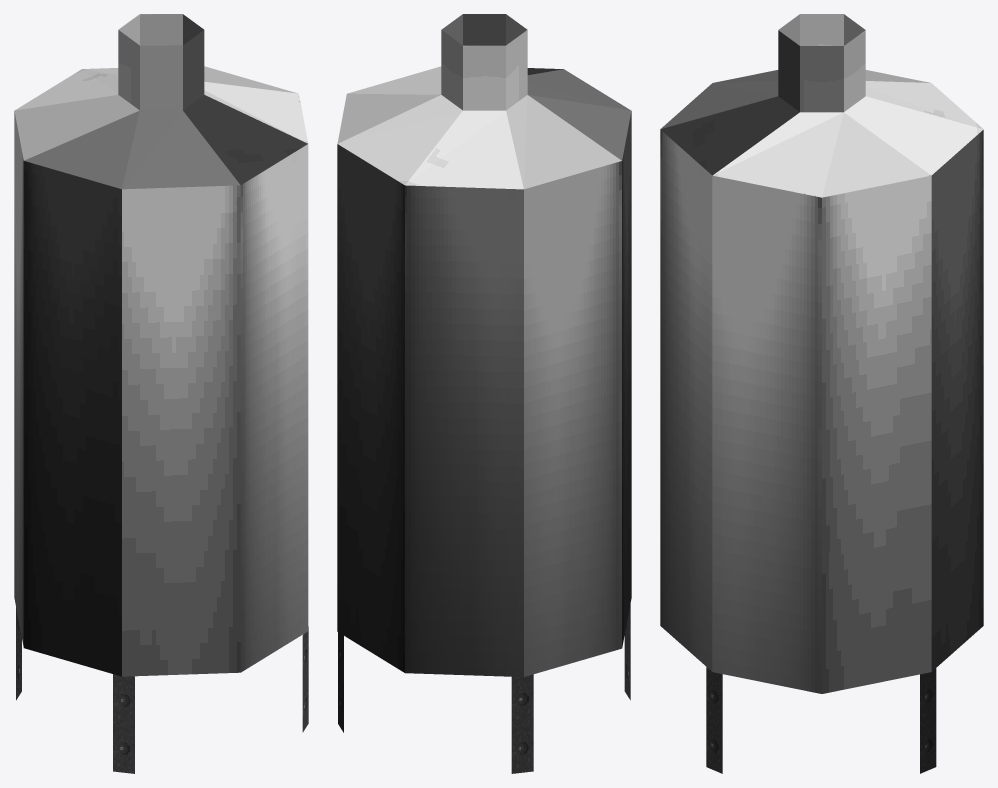
File: primary_156.glb
The picture shows the model from 3 angles, left to right: view 1: azimuth 30°, elevation 25°; view 2: azimuth 150°, elevation 25°; view 3: azimuth 270°, elevation 25°; orthographic projection.
Parts seen in each view (by area): view 1: Object; view 2: Object; view 3: Object.
Boxes of the visible parts, box(x1,y1,x2,y2) form: Object: box(14, 14, 308, 773); Object: box(337, 14, 631, 773); Object: box(660, 14, 983, 773).
Bounding box in the file's own units: 2.51 × 5.94 × 2.51.
21 materials, 21 textured.
